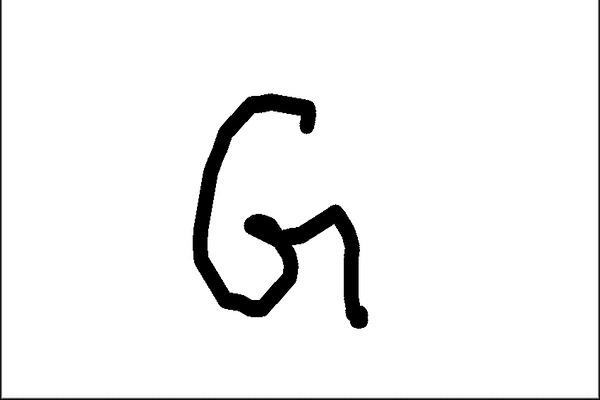G: (189, 89, 377, 332)
